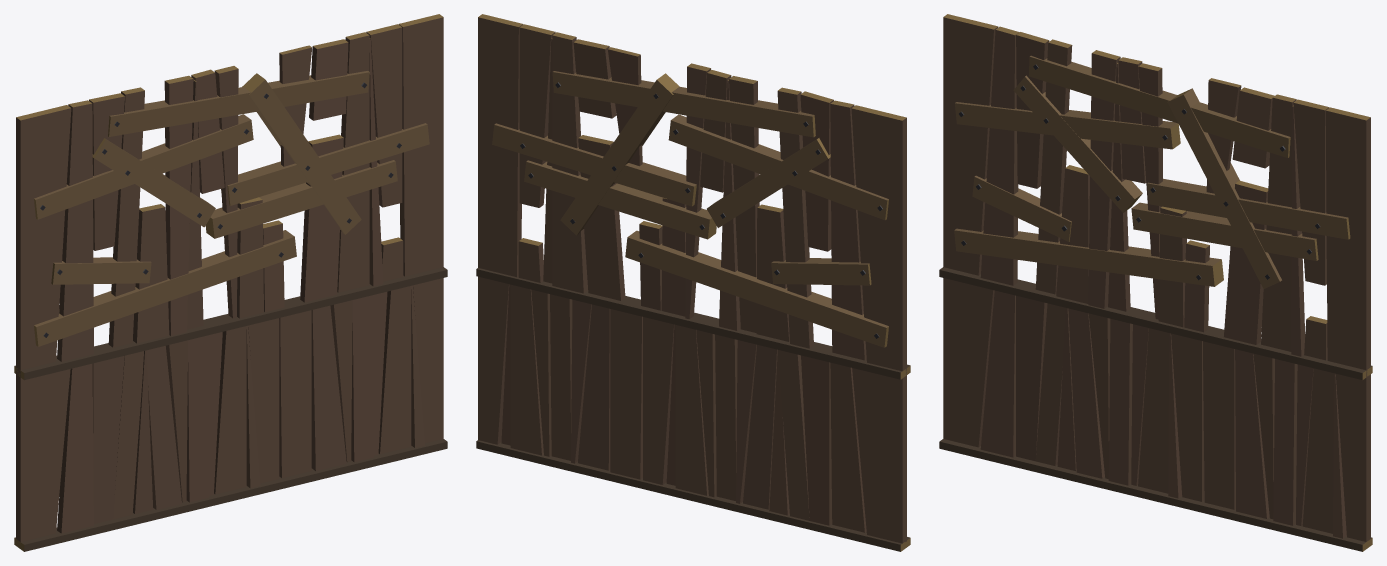
The model's file is Wall_2B_6m.fbx.
The picture shows the model from 3 angles, left to right: view 1: azimuth 30°, elevation 25°; view 2: azimuth 150°, elevation 25°; view 3: azimuth 330°, elevation 25°; orthographic projection.
Visible parts, largest first — view 1: pCube2420; view 2: pCube2420; view 3: pCube2420.
Boxes of the visible parts, x1,y1,x2,y2 form: pCube2420: (14,14,447,551); pCube2420: (476,14,910,551); pCube2420: (939,14,1372,551).
Size of the model in its own units: 600 by 581 by 26.82.
